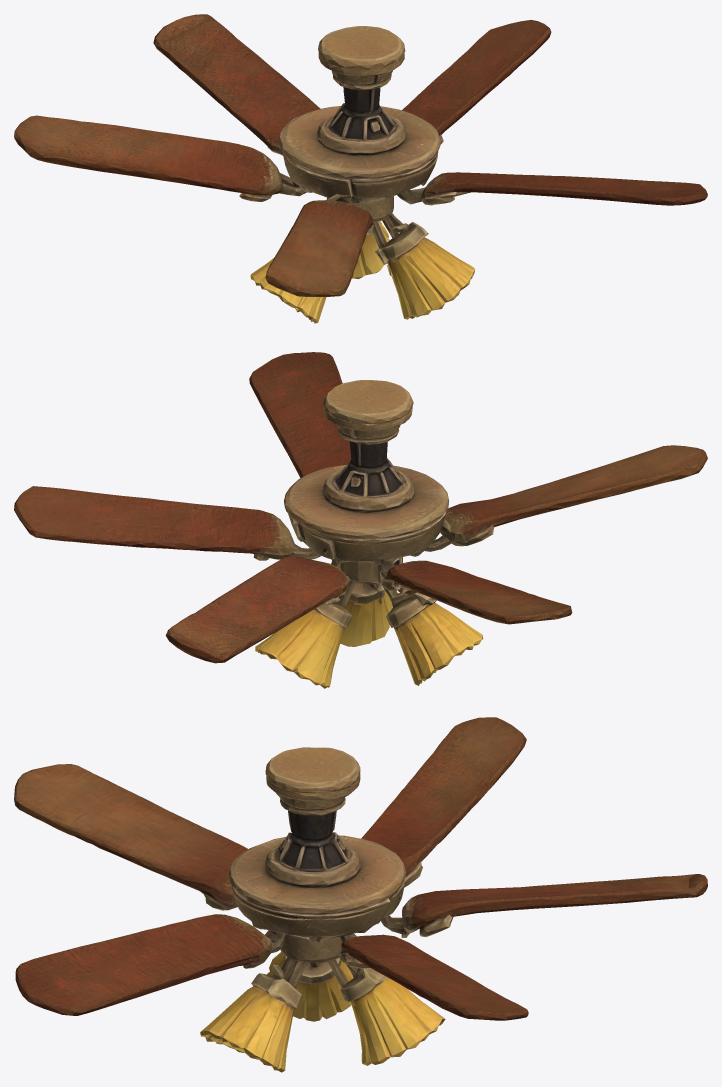
File: 餐厅吊扇.glb
3 views of the same model, one above another, from view 1: azimuth 30°, elevation 25°; view 2: azimuth 150°, elevation 25°; view 3: azimuth 270°, elevation 25° (orthographic). The views are drawn at different scales.
Visible parts, largest first — view 1: model; view 2: model; view 3: model.
Boxes of the visible parts, bbox=[...] form: model: bbox=[14, 14, 707, 323]; model: bbox=[14, 352, 707, 688]; model: bbox=[14, 717, 707, 1072].
Bounding box in the file's own units: 1.82 × 0.8665 × 1.9.
1 material, 1 textured.
